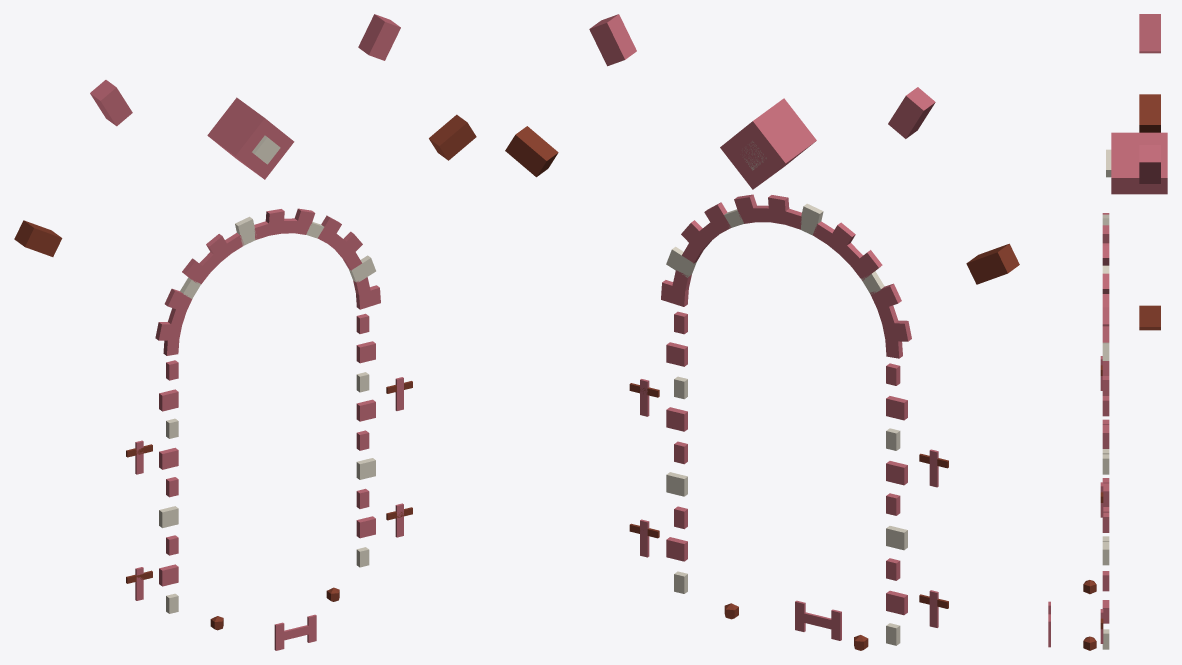
Rendered from realm_glow_rose.glb.
The picture shows the model from 3 angles, left to right: view 1: azimuth 30°, elevation 25°; view 2: azimuth 150°, elevation 25°; view 3: azimuth 270°, elevation 25°; orthographic projection. The views are drawn at different scales.
Parts seen in each view (by area): view 1: realm_glow_rose; view 2: realm_glow_rose; view 3: realm_glow_rose.
Boxes of the visible parts, x1,y1,x2,y2 form: realm_glow_rose: (14, 14, 476, 650); realm_glow_rose: (505, 14, 1019, 650); realm_glow_rose: (1048, 14, 1167, 650).
Bounding box in the file's own units: 3.89 × 4.59 × 0.89.
